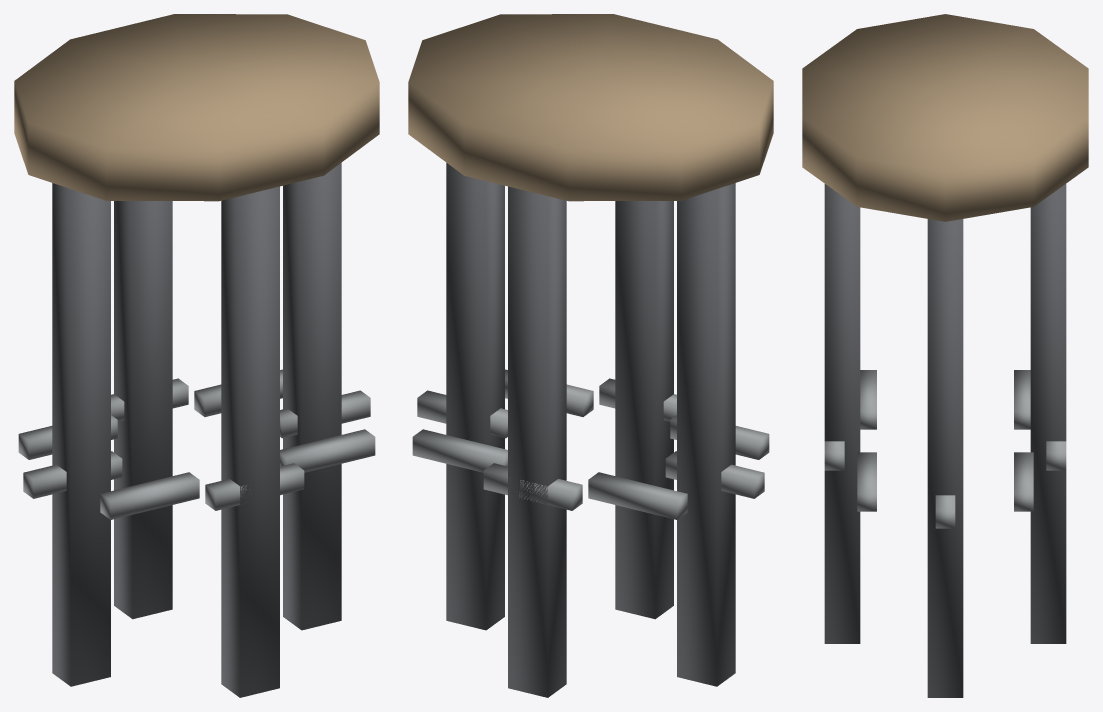
Rendered from shop_stool__wide.glb.
3 renders of one model, left to right at view 1: azimuth 30°, elevation 25°; view 2: azimuth 150°, elevation 25°; view 3: azimuth 270°, elevation 25°, orthographic. The views are drawn at different scales.
Visible parts, largest first — view 1: world; view 2: world; view 3: world.
Part boxes in pixels (x1,y1,x2,y2): world: (14,14,379,697); world: (408,14,773,697); world: (802,14,1088,697).
Bounding box in the file's own units: 0.4712 × 0.755 × 0.3614.
